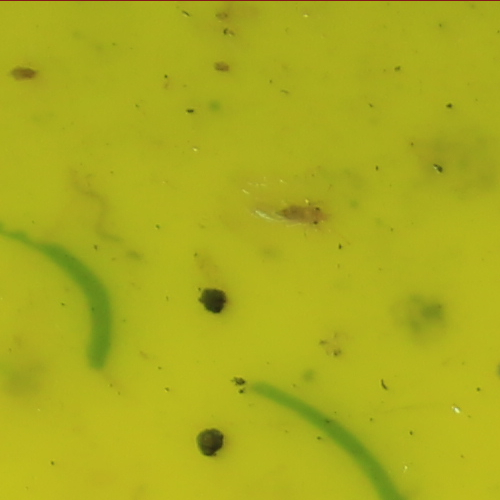Glycaspis: (280, 202, 331, 225)
